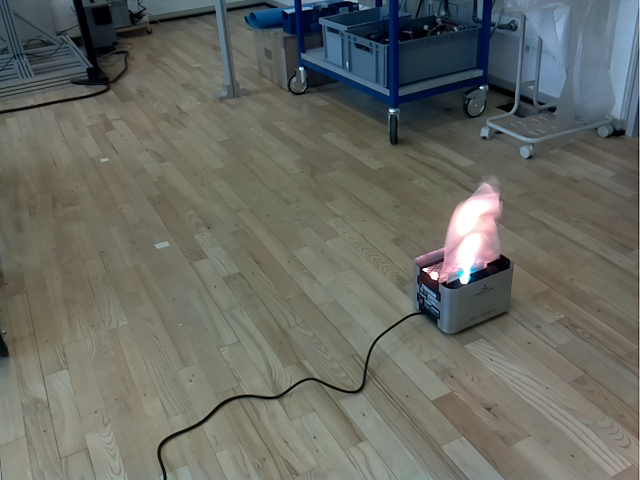fire: (435, 181, 501, 284)
